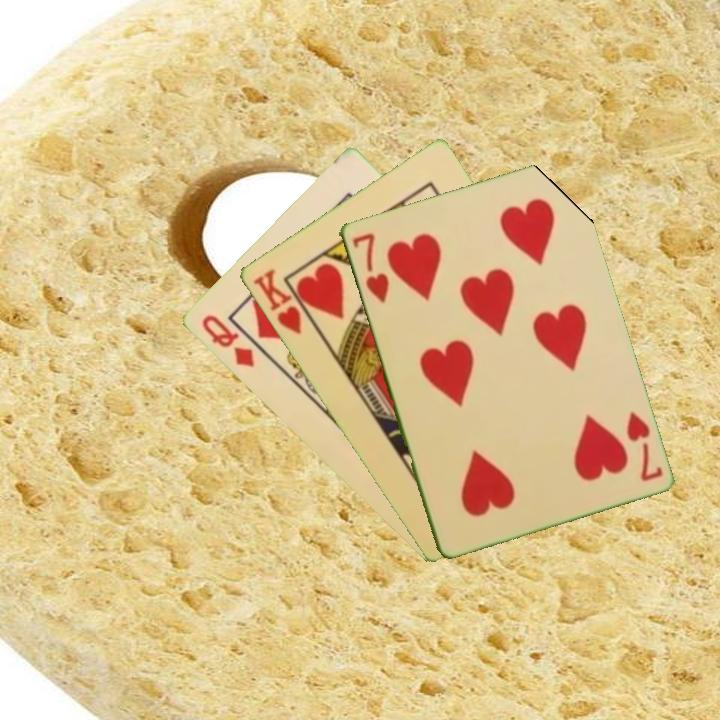7h: (348, 229, 392, 306), (622, 408, 665, 484)
Kh: (249, 265, 318, 337)
Qd: (197, 311, 257, 371)
